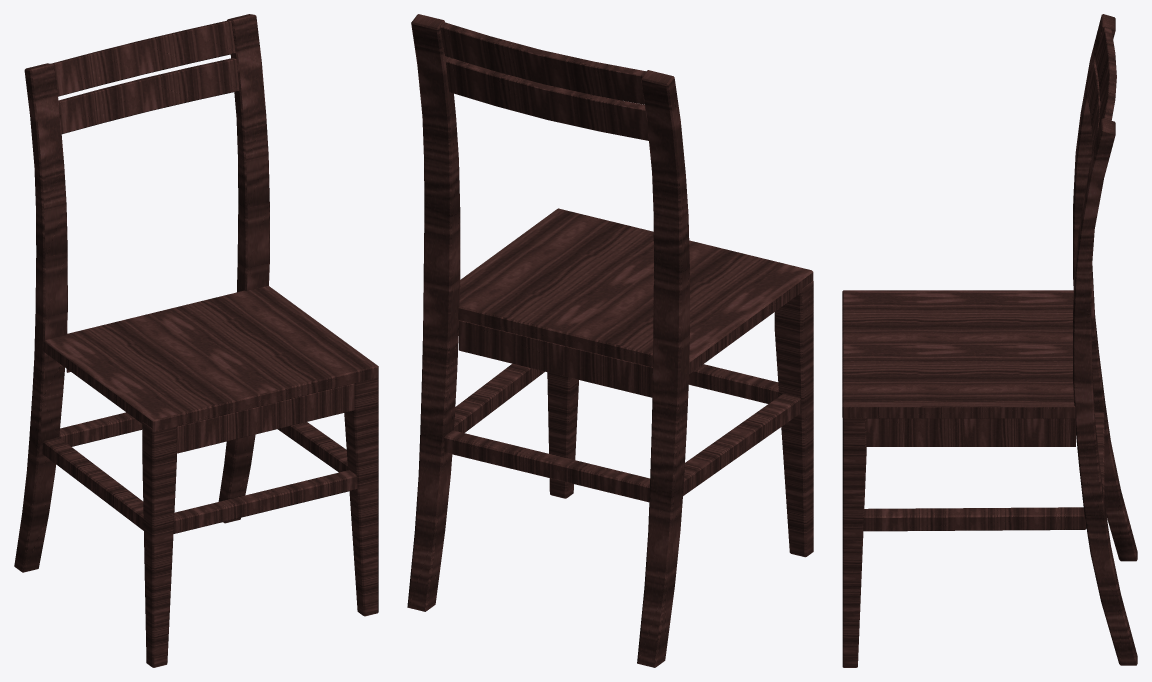
Rendered from PantryChair.FBX.
3 views of the same model, side by side, from view 1: azimuth 30°, elevation 25°; view 2: azimuth 150°, elevation 25°; view 3: azimuth 270°, elevation 25° (orthographic). The views are drawn at different scales.
Visible parts, largest first — view 1: PantryChair; view 2: PantryChair; view 3: PantryChair.
Part boxes in pixels (<box>): PantryChair: <box>14,14,378,667</box>; PantryChair: <box>407,14,813,667</box>; PantryChair: <box>842,14,1137,667</box>.
Bounding box in the file's own units: 55.27 × 119 × 59.
Materials: 1 (1 with a texture image).
